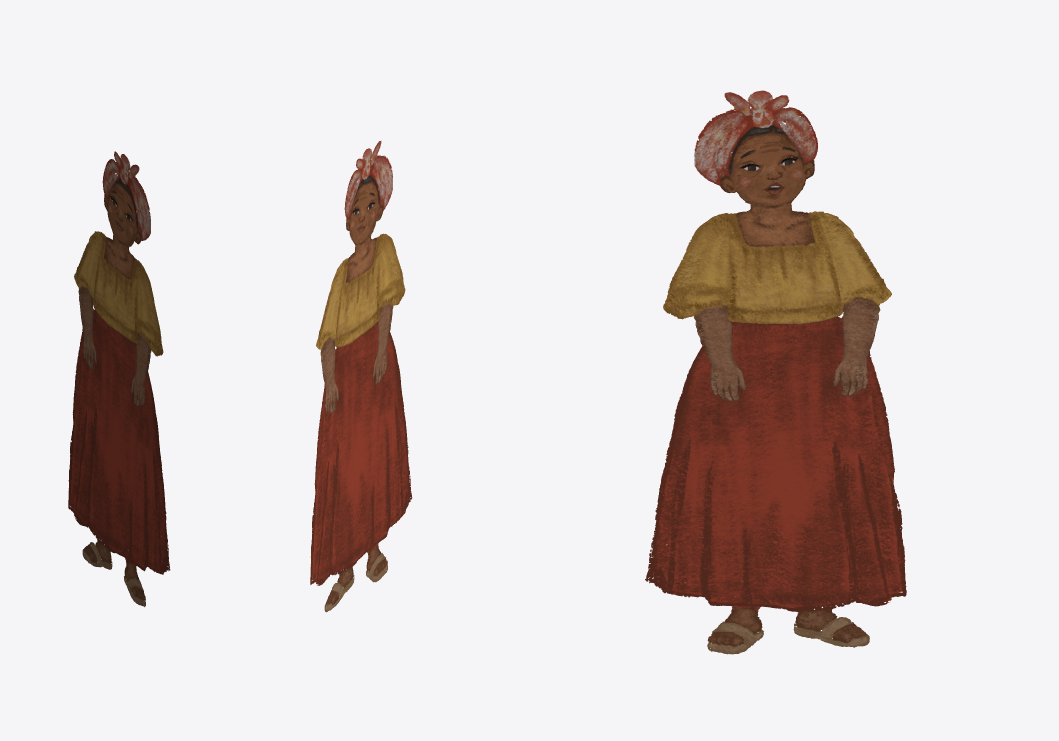
File: mama_clemen_hablando.fbx
3 views of the same model, side by side, from view 1: azimuth 30°, elevation 25°; view 2: azimuth 150°, elevation 25°; view 3: azimuth 270°, elevation 25° (orthographic). The views are drawn at different scales.
Parts seen in each view (by area): view 1: clemen completa normal; view 2: clemen completa normal; view 3: clemen completa normal, cara hablar.
Part boxes in pixels (x1,y1,x2,y2): clemen completa normal: (68,151,170,606); clemen completa normal: (310,141,412,612); clemen completa normal: (645,90,906,654); cara hablar: (720,133,814,204).
Bounding box in the file's own units: 0.1734 × 700 × 486.
Materials: 2 (2 with a texture image).
